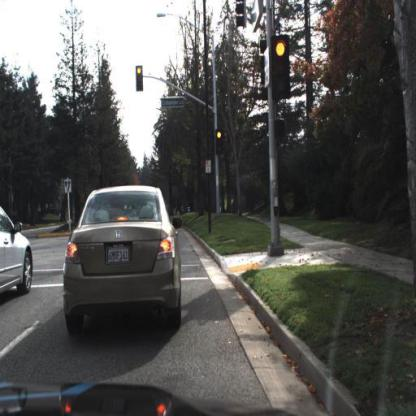car: (61, 185, 186, 340), (1, 199, 36, 305)
trafficLight-Red: (268, 34, 292, 109), (216, 129, 226, 159), (135, 65, 145, 93)
